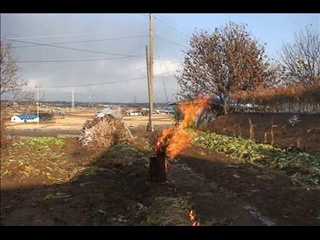fire: (154, 128, 192, 172), (175, 96, 209, 129), (186, 211, 205, 226)
